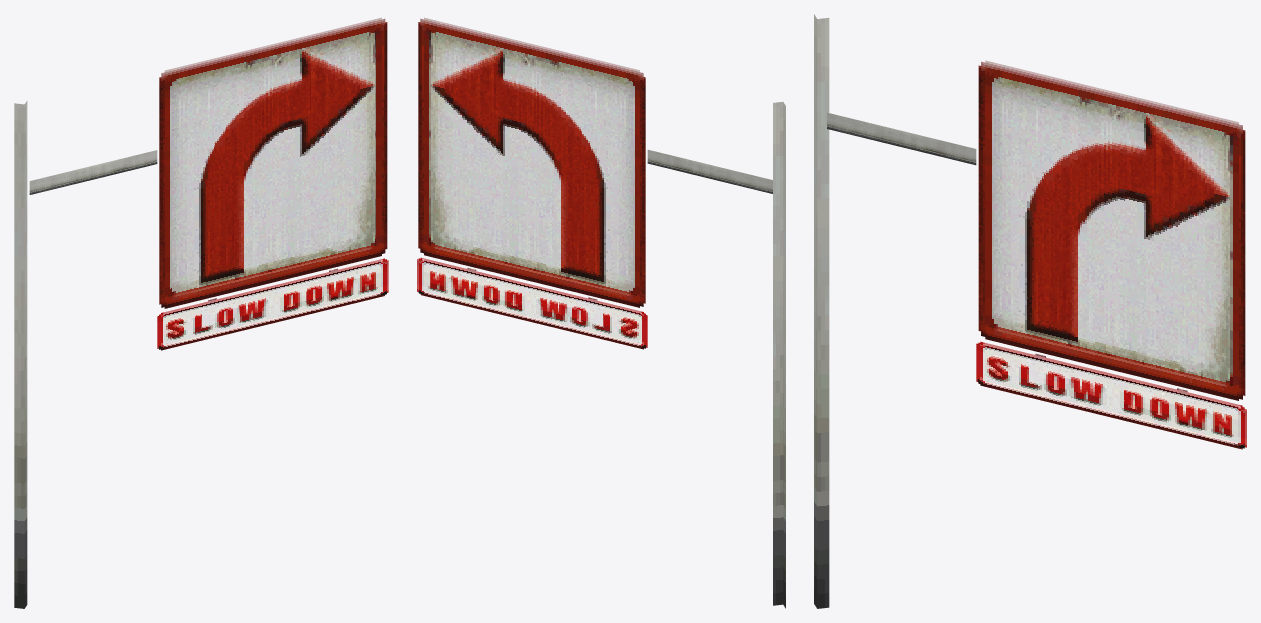
The model's file is stage-niag-p5-8.glb.
3 views of the same model, side by side, from view 1: azimuth 30°, elevation 25°; view 2: azimuth 150°, elevation 25°; view 3: azimuth 330°, elevation 25° (orthographic). The views are drawn at different scales.
Size of the model in its own units: 8.04 by 10.41 by 0.1415.
3 materials, 3 textured.
